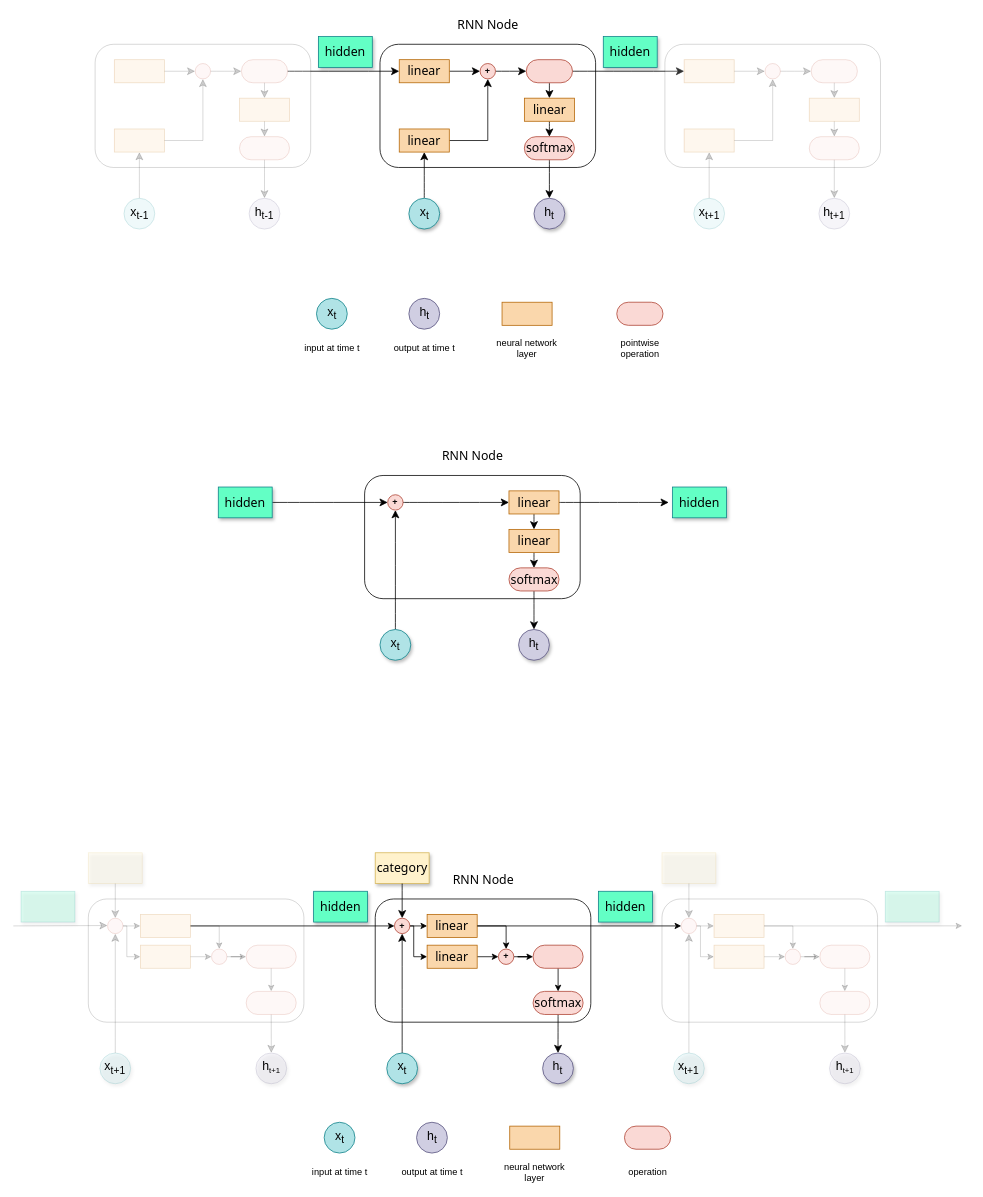
Image size: 983x1197. Some labels were removed from this diagram. Here are the shapes that lost their labels. From the top down, the centre of each, then its label:
the point at 549,71: tanh
the point at 557,956: dropout
